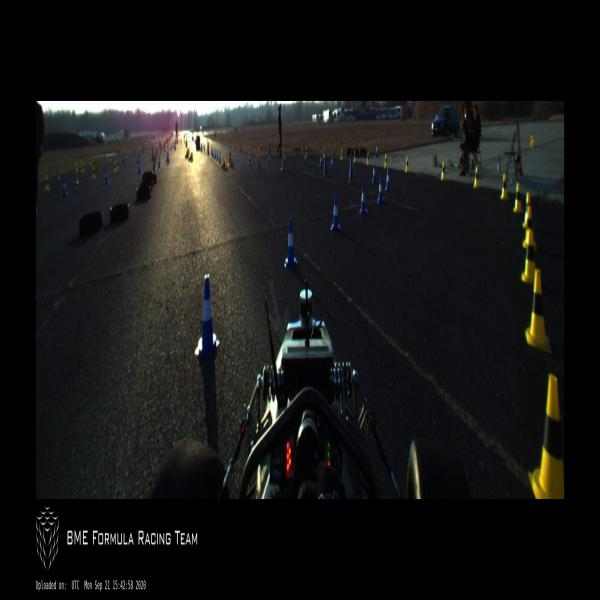blue_cone: (195, 274, 220, 358), (284, 219, 297, 270), (331, 194, 340, 232), (360, 185, 368, 215), (377, 177, 384, 204), (385, 169, 391, 192), (61, 179, 67, 197), (103, 169, 109, 184), (372, 164, 376, 184), (375, 145, 379, 158), (331, 157, 334, 170), (138, 162, 141, 173), (248, 154, 251, 164), (284, 152, 286, 166), (320, 154, 322, 167), (158, 157, 160, 168), (304, 154, 306, 165), (268, 153, 270, 164), (216, 150, 218, 161), (219, 152, 221, 162), (214, 149, 216, 159), (122, 155, 124, 164), (212, 149, 214, 157), (166, 153, 168, 161), (136, 155, 138, 163), (168, 155, 169, 164), (155, 152, 156, 161), (211, 147, 212, 155), (139, 152, 140, 159)
large_orange_cone: (206, 141, 210, 155)
unknown_cone: (348, 159, 356, 186), (72, 159, 79, 184), (322, 155, 329, 178), (280, 153, 286, 172), (55, 166, 60, 180), (221, 157, 226, 170), (256, 153, 260, 168), (152, 157, 156, 171), (188, 152, 193, 162), (185, 148, 189, 158), (174, 142, 176, 151)
yellow_cone: (528, 374, 564, 499), (524, 270, 550, 353), (521, 228, 535, 284), (522, 206, 536, 248), (522, 193, 532, 227), (513, 182, 523, 213), (500, 173, 508, 201), (474, 166, 480, 187), (441, 162, 445, 180), (530, 135, 535, 148), (405, 156, 409, 172), (45, 176, 49, 191), (92, 166, 96, 179), (353, 150, 357, 163), (384, 153, 387, 169), (366, 151, 369, 166), (340, 148, 343, 161), (116, 159, 119, 171), (114, 162, 117, 173), (257, 147, 260, 158), (248, 146, 251, 155), (323, 146, 325, 159), (89, 157, 92, 165), (306, 146, 308, 157), (243, 144, 245, 154), (82, 164, 84, 172), (237, 143, 239, 151), (232, 142, 234, 149), (80, 160, 82, 167)
